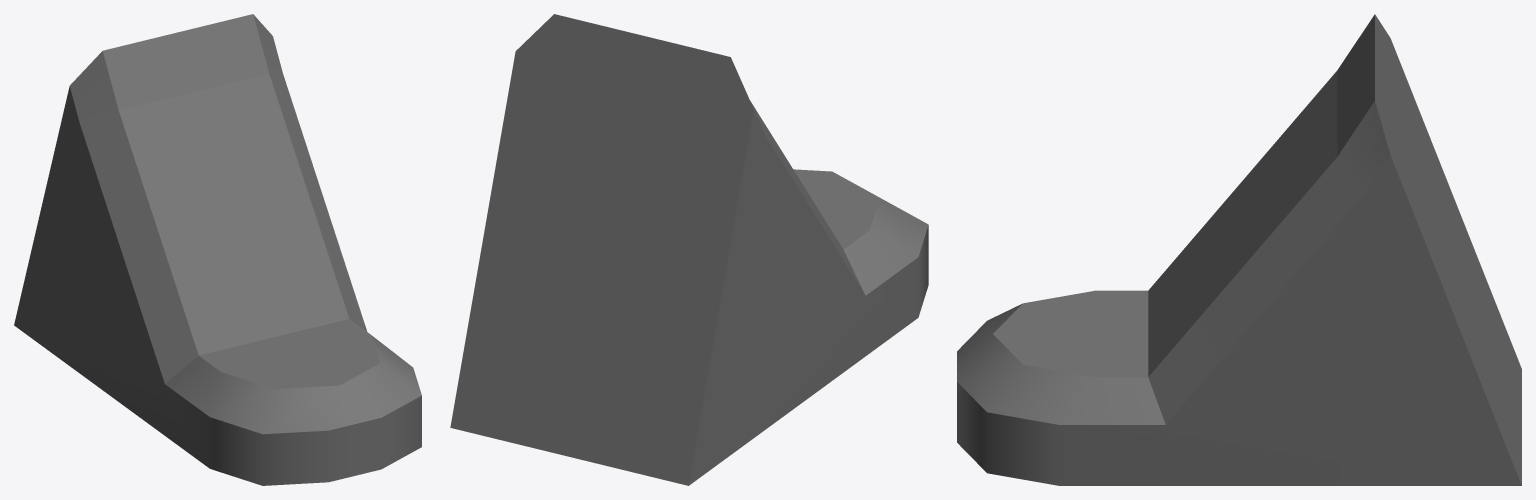
File: space_station_029.fbx
3 views of the same model, side by side, from view 1: azimuth 30°, elevation 25°; view 2: azimuth 150°, elevation 25°; view 3: azimuth 270°, elevation 25° (orthographic). The views are drawn at different scales.
Parts seen in each view (by area): view 1: space_station_029; view 2: space_station_029; view 3: space_station_029.
Boxes of the visible parts, x1=… form: space_station_029: x1=14, y1=14, x2=421, y2=485; space_station_029: x1=450, y1=14, x2=928, y2=485; space_station_029: x1=957, y1=14, x2=1521, y2=485.
Size of the model in its own units: 753 by 1536 by 1111.
